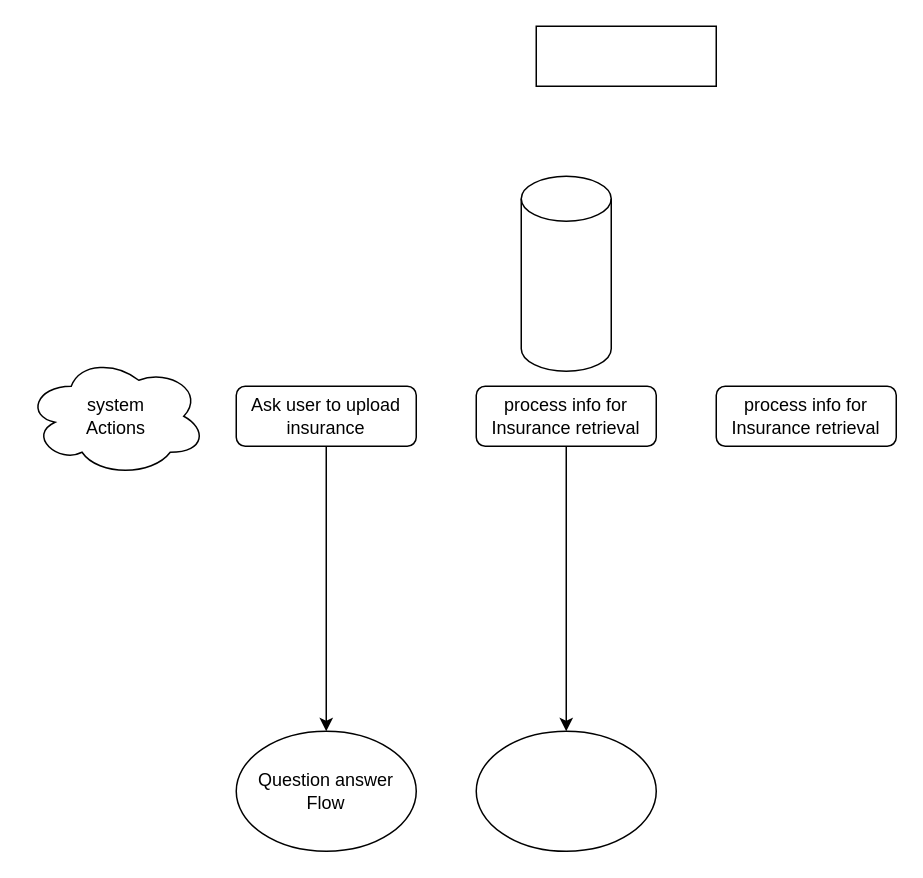
This 923x878 diagram has some shape labels left out. Each missing label, with the box of its shape:
1. Disease Info 2. Preference Info: (520, 175, 611, 371)
Give user a list of Insurance to select: (475, 730, 656, 851)
User message action decoder: (535, 25, 716, 86)
